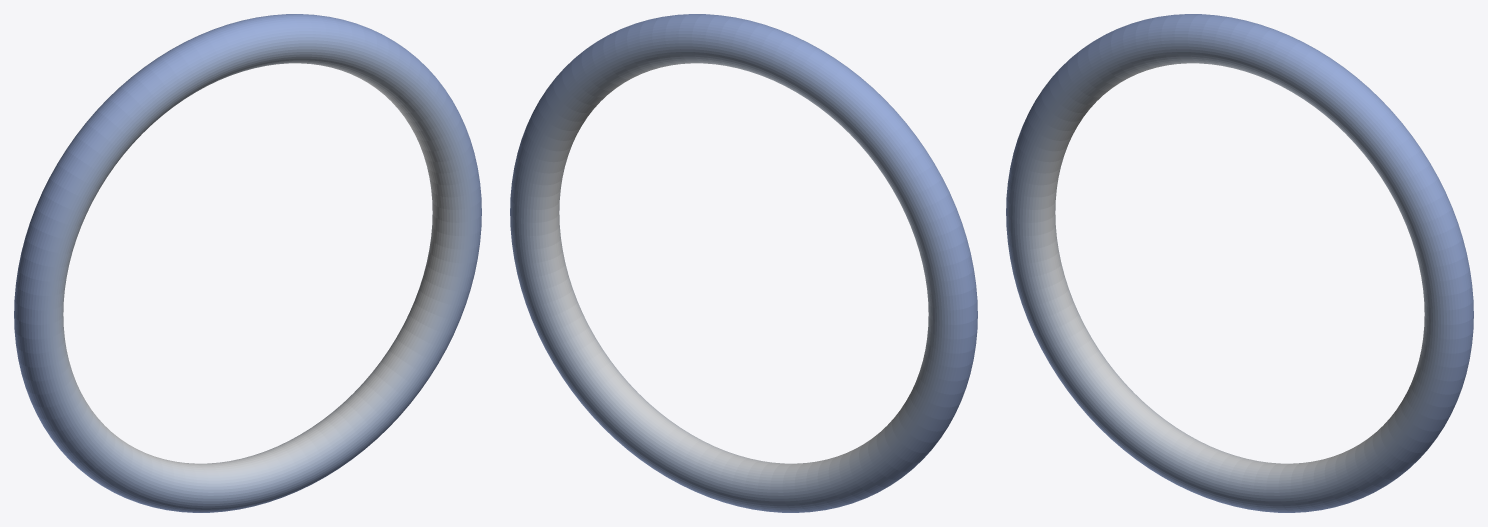
3 renders of one model, left to right at view 1: azimuth 30°, elevation 25°; view 2: azimuth 150°, elevation 25°; view 3: azimuth 330°, elevation 25°, orthographic.
Parts seen in each view (by area): view 1: world; view 2: world; view 3: world.
Part boxes in pixels (<box>): world: <box>14,14,481,512</box>; world: <box>510,14,977,512</box>; world: <box>1006,14,1473,512</box>.
Bounding box in the file's own units: 33.07 × 33.07 × 3.06.
